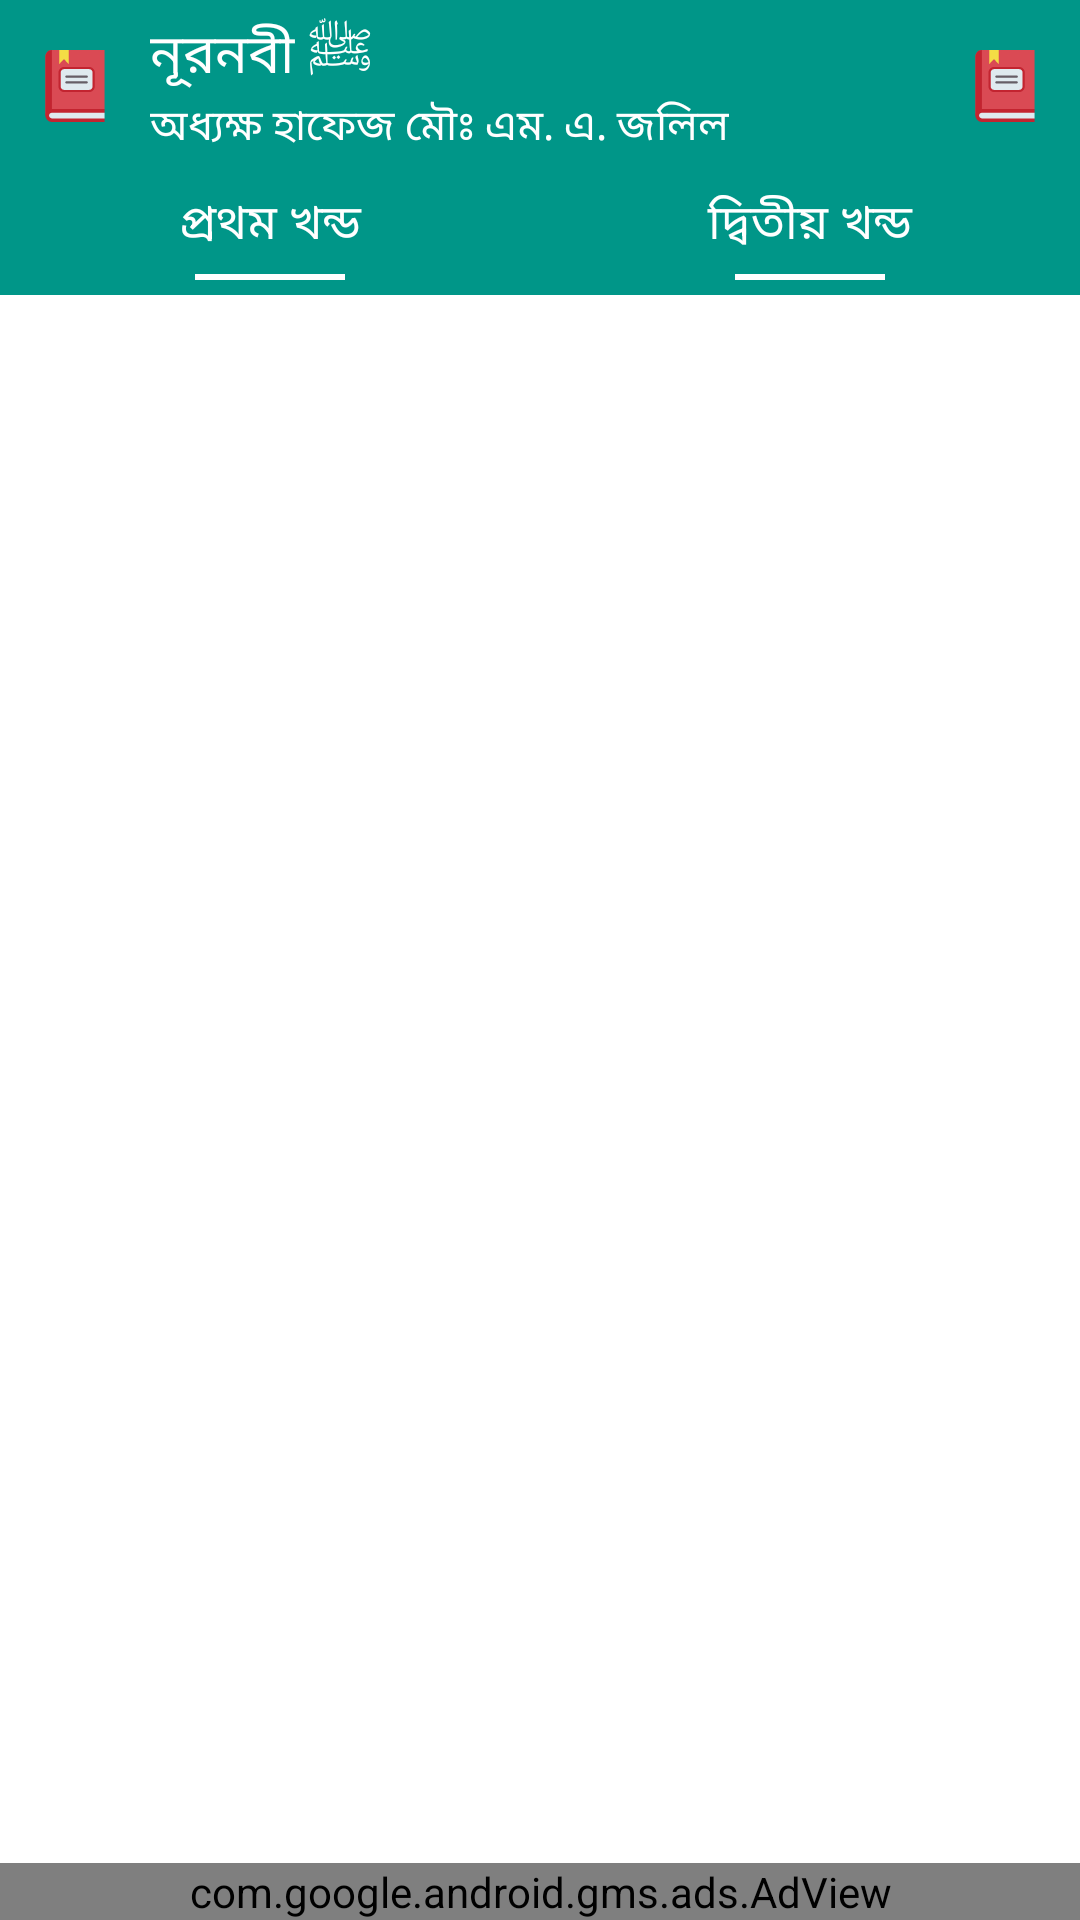

Point at icon controls on the screen. Image size 1080px x 1920px, points as (x=x, y=y).
book: (x=75, y=86), (x=1005, y=86)
